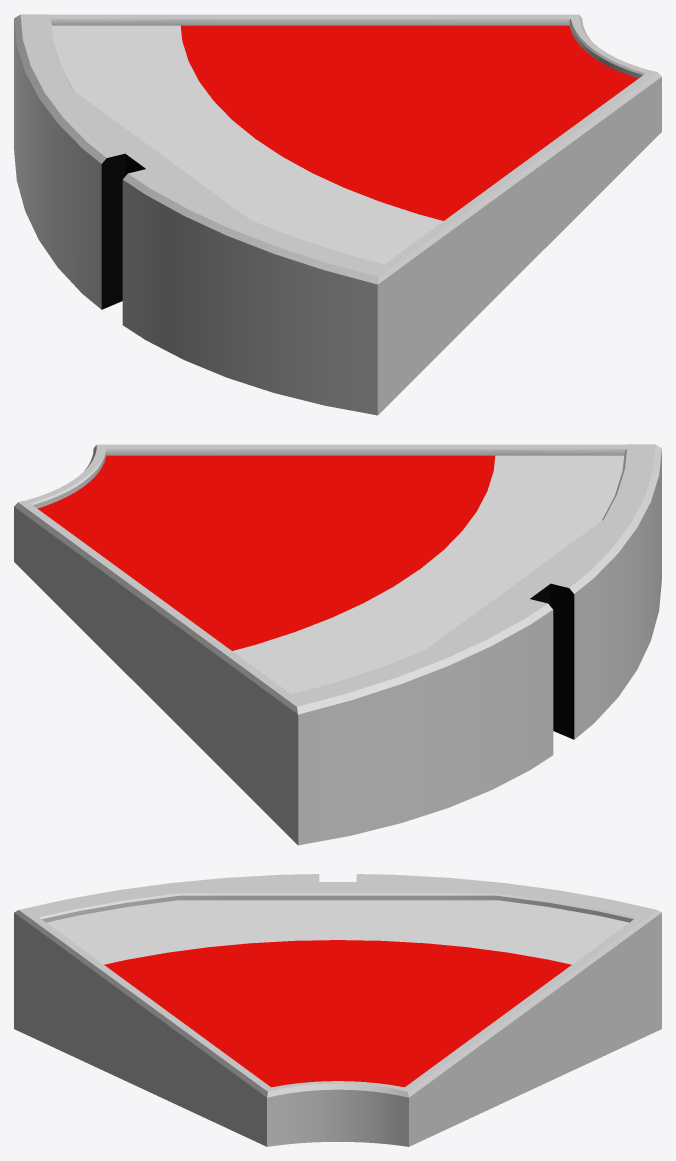
File: piezaSeparada_low.fbx
3 renders of one model, top to bottom at view 1: azimuth 30°, elevation 25°; view 2: azimuth 150°, elevation 25°; view 3: azimuth 270°, elevation 25°, orthographic. The views are drawn at different scales.
Parts seen in each view (by area): view 1: pieza_low, pieza_low.002; view 2: pieza_low, pieza_low.002; view 3: pieza_low, pieza_low.002.
Part boxes in pixels (x1=…): pieza_low: x1=14, y1=14, x2=661, y2=415; pieza_low.002: x1=52, y1=25, x2=443, y2=264; pieza_low: x1=14, y1=444, x2=661, y2=845; pieza_low.002: x1=232, y1=455, x2=623, y2=694; pieza_low: x1=14, y1=874, x2=661, y2=1146; pieza_low.002: x1=47, y1=900, x2=628, y2=964.
Bounding box in the file's own units: 75.14 × 21.2 × 92.87.
